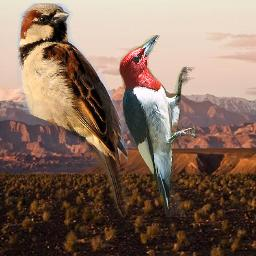Swallow: (16, 3, 128, 217)
Woodpecker: (118, 35, 195, 217)
